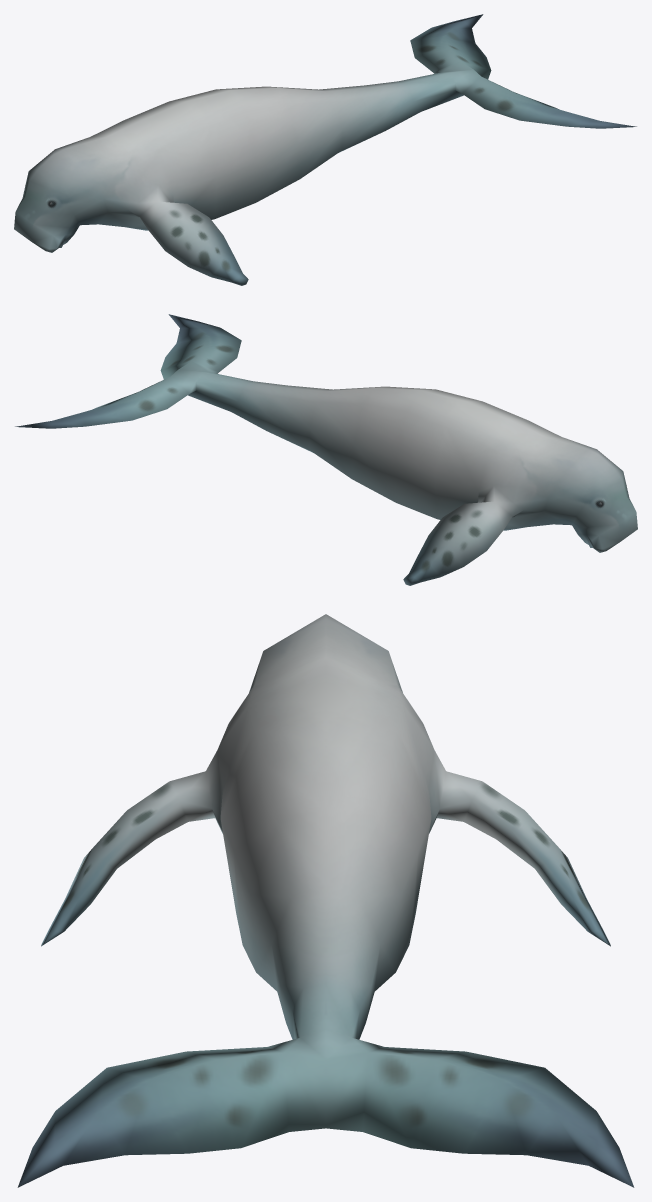
The model's file is f25_hainiu.FBX.
The picture shows the model from 3 angles, top to bottom: view 1: azimuth 30°, elevation 25°; view 2: azimuth 150°, elevation 25°; view 3: azimuth 270°, elevation 25°; orthographic projection. The views are drawn at different scales.
Parts seen in each view (by area): view 1: f25_hainiu; view 2: f25_hainiu; view 3: f25_hainiu.
Part boxes in pixels (x1,y1,x2,y2): f25_hainiu: (14,14,636,285); f25_hainiu: (15,314,637,585); f25_hainiu: (17,614,634,1187).
Bounding box in the file's own units: 296 × 66.65 × 144.
1 material, 1 textured.
